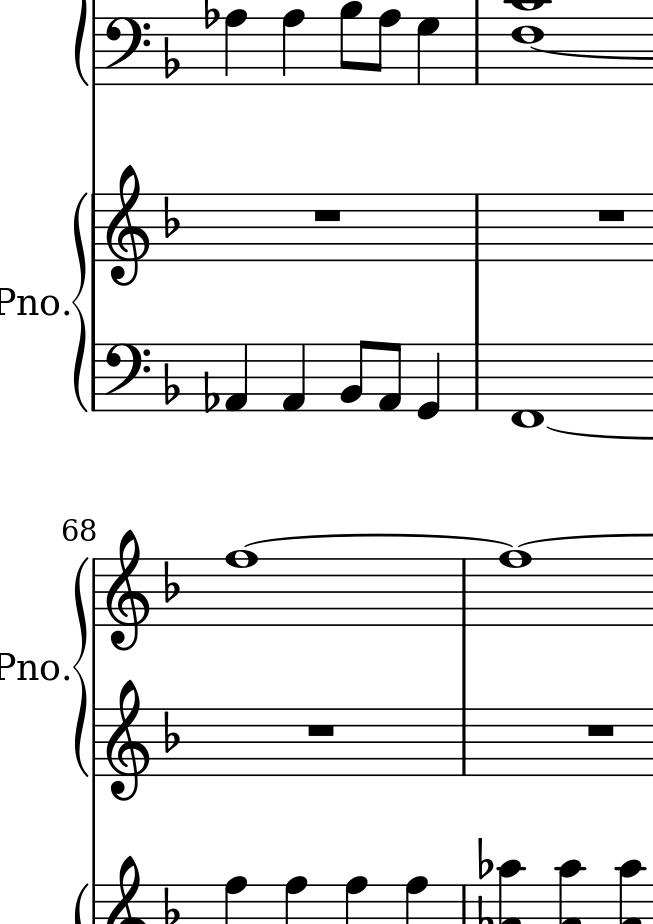1_-1: (509, 341, 544, 431)
1_6: (511, 15, 545, 87)
1_8: (498, 550, 534, 627), (225, 549, 259, 628)
4_0: (416, 341, 442, 423)
4_1: (225, 342, 251, 414), (283, 342, 309, 414)
4_7: (416, 16, 442, 86)
4_8: (223, 9, 249, 86), (281, 9, 307, 86)
6: (61, 515, 80, 543)
8: (80, 514, 96, 543)
8_1: (376, 341, 403, 415)
8_2: (340, 339, 371, 411)
8_8: (370, 9, 402, 87)
8_9: (338, 1, 365, 88)
Brace: (71, 191, 88, 413), (71, 557, 88, 777)
Fclef: (101, 16, 152, 87), (104, 344, 154, 414)
Flat: (471, 830, 494, 879), (160, 709, 181, 754), (162, 559, 181, 607), (163, 195, 183, 240), (163, 361, 182, 406), (162, 34, 180, 80), (201, 370, 218, 416)
Gclef: (103, 675, 150, 807), (105, 165, 153, 286), (105, 528, 152, 651)
Rests1: (308, 206, 345, 224), (594, 206, 630, 224), (304, 720, 339, 738), (585, 720, 620, 738)
Single_barline: (87, 13, 102, 85), (468, 345, 485, 408), (468, 194, 484, 260), (456, 709, 472, 774), (469, 19, 485, 83), (87, 193, 102, 261), (456, 562, 472, 625), (88, 345, 102, 410), (89, 708, 102, 776), (88, 560, 101, 626)
Slur: (239, 532, 519, 549)
